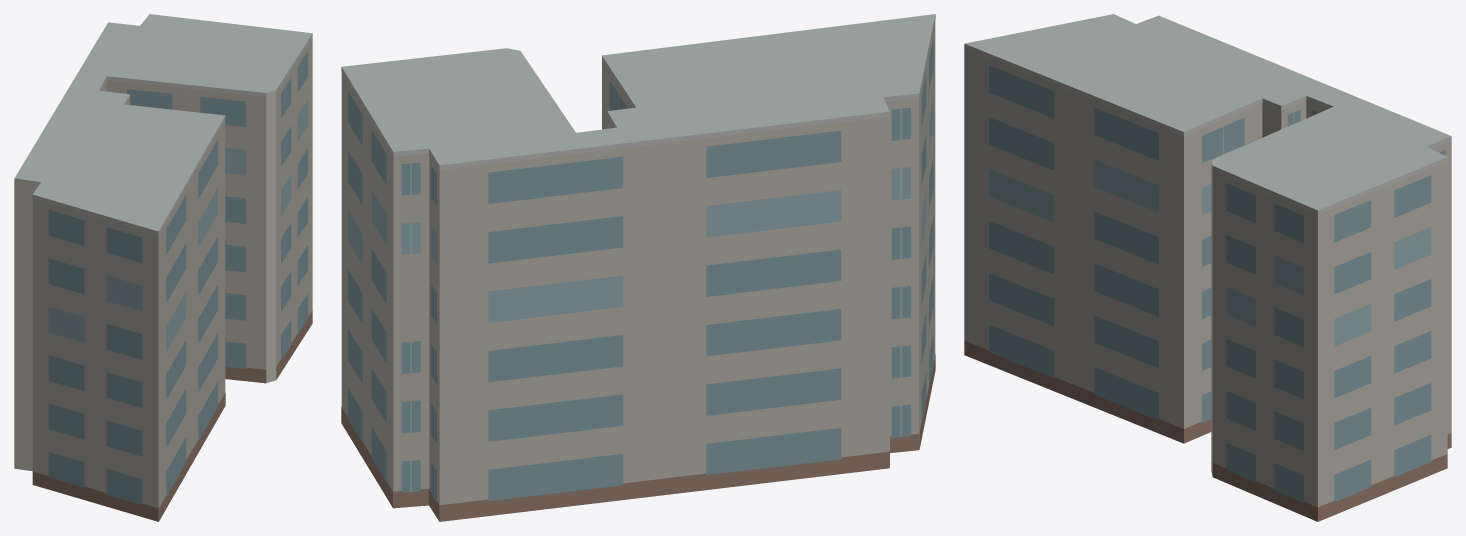
The model's file is survey-upis-32996074.glb.
3 views of the same model, side by side, from view 1: azimuth 30°, elevation 25°; view 2: azimuth 150°, elevation 25°; view 3: azimuth 270°, elevation 25° (orthographic). The views are drawn at different scales.
Parts seen in each view (by area): view 1: survey-upis-32996074.tmp; view 2: survey-upis-32996074.tmp; view 3: survey-upis-32996074.tmp.
Boxes of the visible parts, box(x1,y1,x2,y2) form: survey-upis-32996074.tmp: box(14, 14, 312, 521); survey-upis-32996074.tmp: box(341, 14, 935, 521); survey-upis-32996074.tmp: box(964, 14, 1451, 521).
Size of the model in its own units: 23.95 by 17.7 by 25.11.
